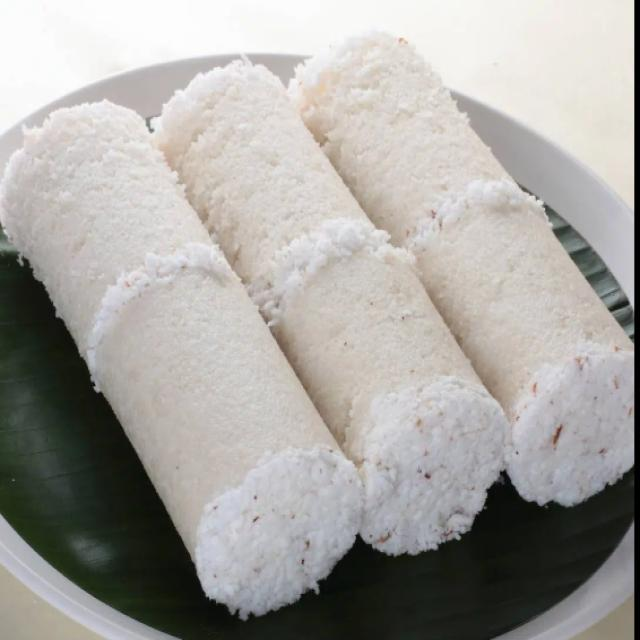PUTTU: (0, 39, 638, 625)
